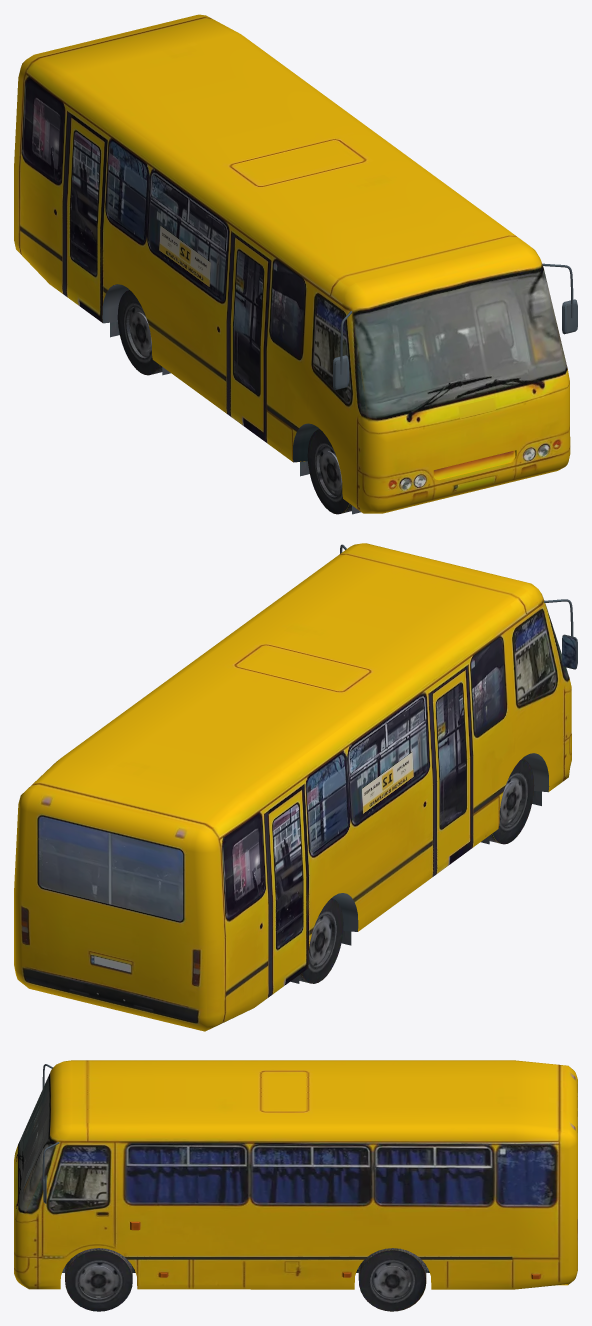
Rendered from minibus.glb.
The picture shows the model from 3 angles, top to bottom: view 1: azimuth 30°, elevation 25°; view 2: azimuth 150°, elevation 25°; view 3: azimuth 270°, elevation 25°; orthographic projection. The views are drawn at different scales.
Visible parts, largest first — view 1: Bus Bohdan_0; view 2: Bus Bohdan_0; view 3: Bus Bohdan_0.
Boxes of the visible parts, box(x1,y1,x2,y2) form: Bus Bohdan_0: box(14, 14, 577, 514); Bus Bohdan_0: box(14, 543, 577, 1031); Bus Bohdan_0: box(14, 1060, 577, 1311).
Bounding box in the file's own units: 1.33 × 1.24 × 3.44.
Materials: 1 (1 with a texture image).
